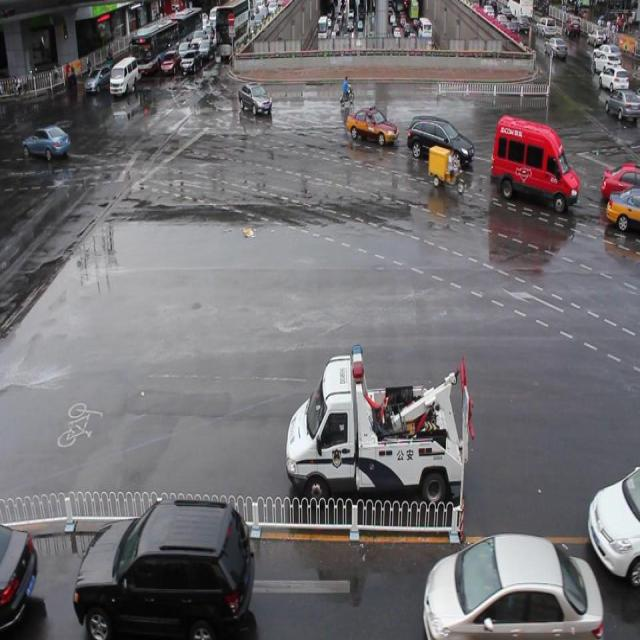bus: (287, 344, 475, 513)
car: (77, 495, 254, 640), (422, 530, 601, 640), (586, 462, 640, 583), (1, 520, 38, 640), (408, 116, 474, 170), (347, 105, 398, 145), (602, 159, 640, 202), (606, 186, 640, 231), (238, 80, 273, 116)
truck: (490, 113, 580, 213)
